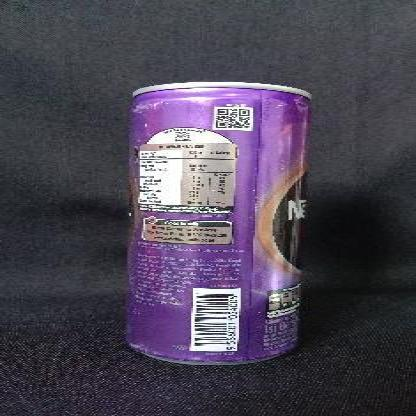alumunium_can: (124, 81, 311, 365)
